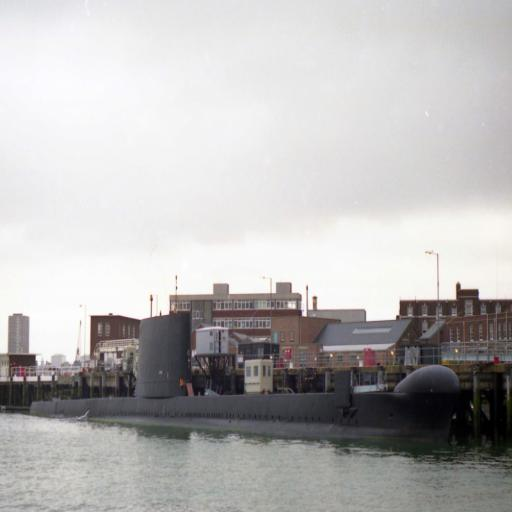submarine: (20, 308, 471, 440)
